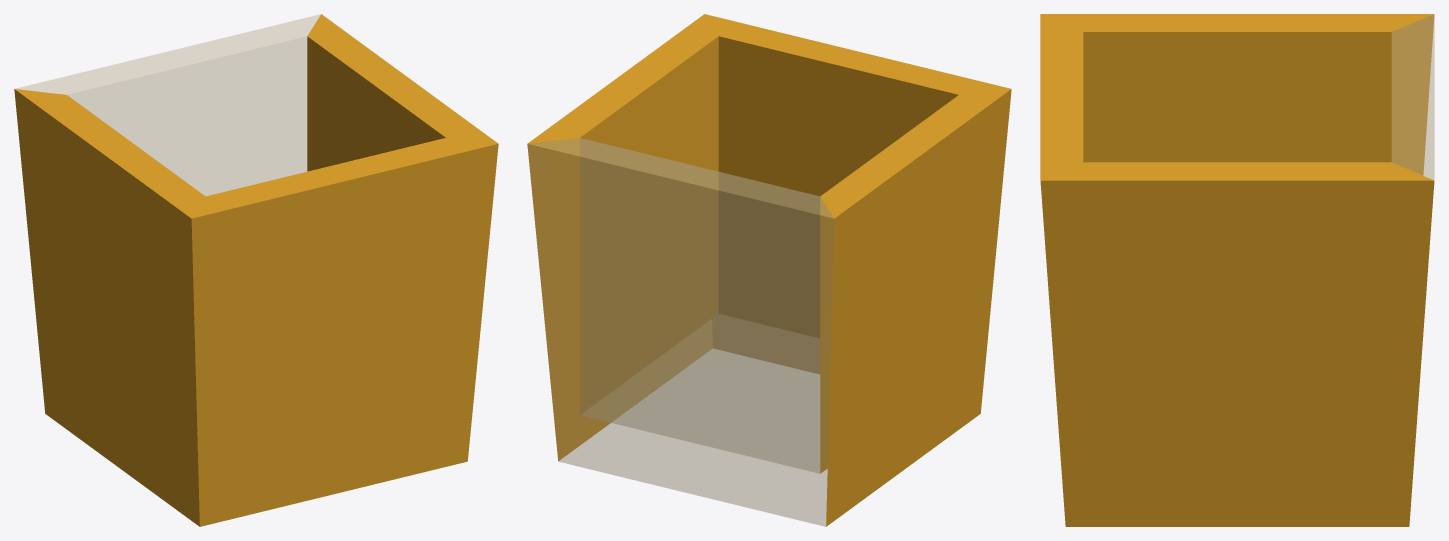
File: Orange collector.fbx
The picture shows the model from 3 angles, left to right: view 1: azimuth 30°, elevation 25°; view 2: azimuth 150°, elevation 25°; view 3: azimuth 270°, elevation 25°; orthographic projection. The views are drawn at different scales.
Visible parts, largest first — view 1: P1 Cauldron; view 2: P1 Cauldron; view 3: P1 Cauldron.
Boxes of the visible parts, box(x1,y1,x2,y2) form: P1 Cauldron: box(14, 14, 498, 526); P1 Cauldron: box(527, 14, 1011, 526); P1 Cauldron: box(1040, 14, 1434, 526).
Bounding box in the file's own units: 200 × 200 × 200.
